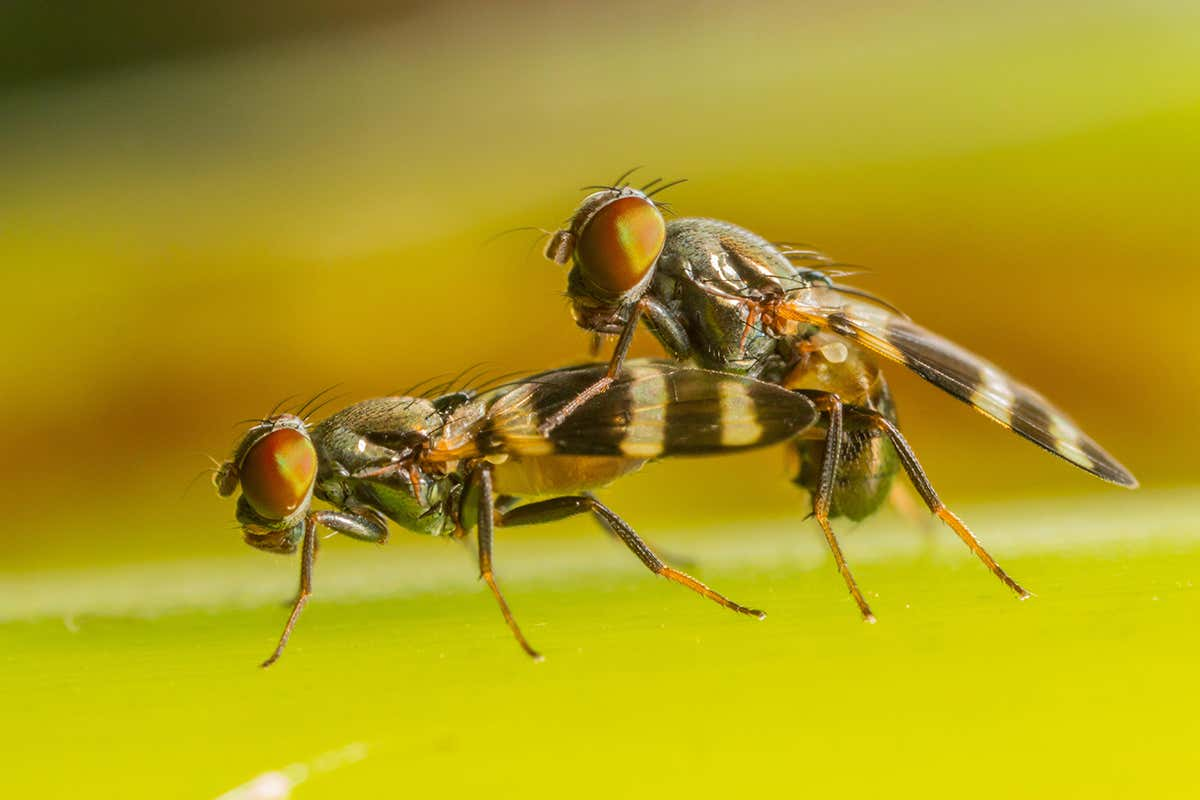Fruit fly: (141, 98, 1137, 680)
